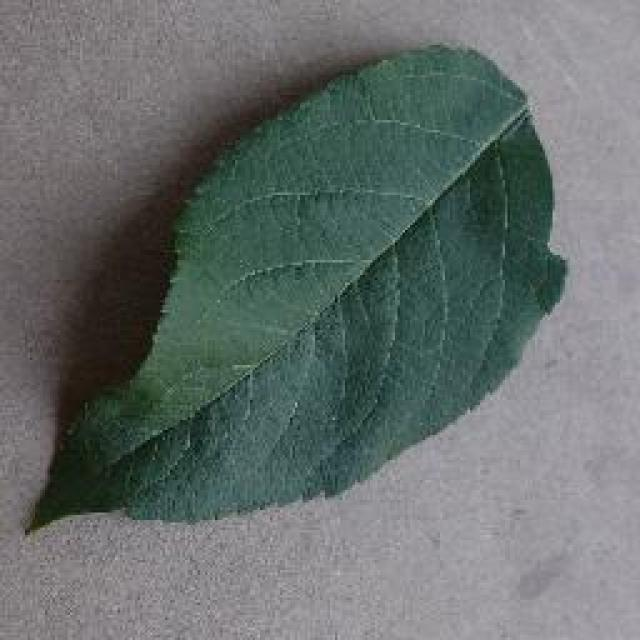apple healthy: (22, 38, 570, 538)
